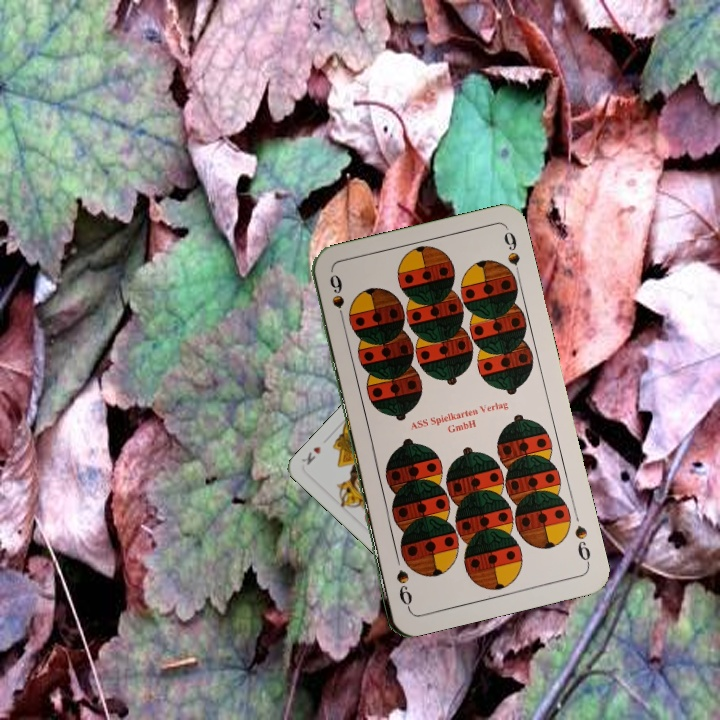S9: (325, 270, 348, 329), (571, 521, 594, 568)
